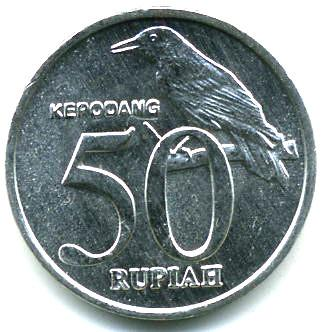coin_50_1999: (5, 5, 321, 324)
